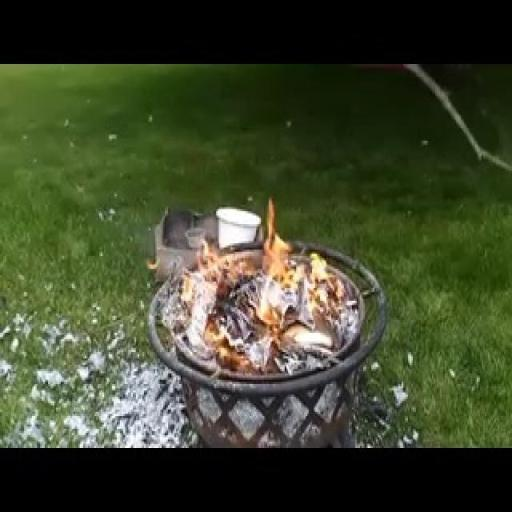smoke: (141, 149, 350, 380)
